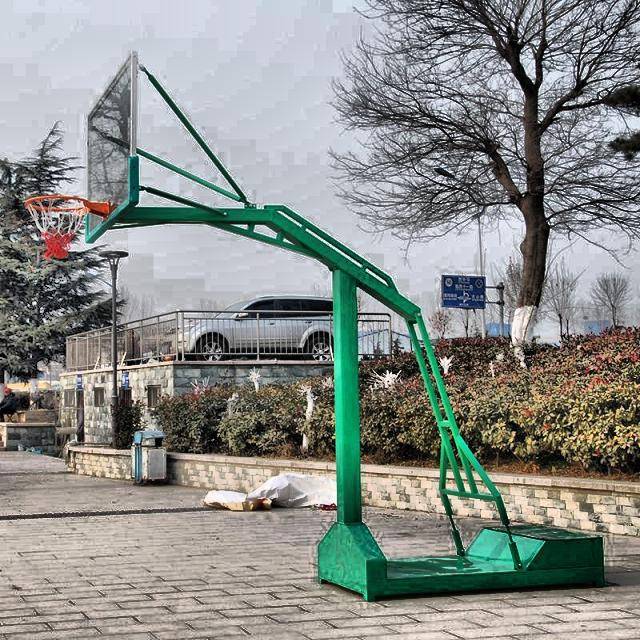rim: (22, 192, 88, 259)
